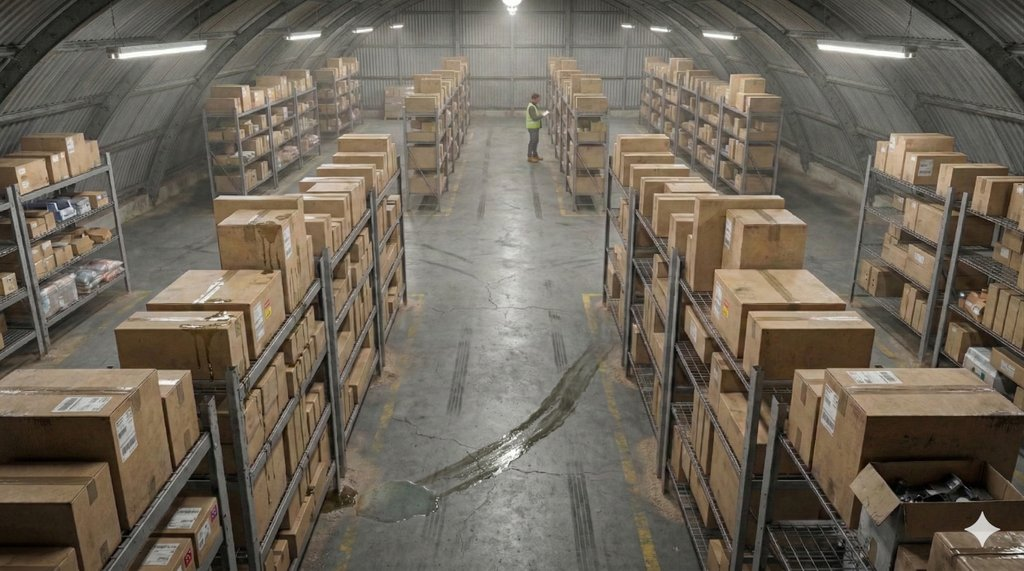person: (509, 77, 552, 170)
safety_vest: (525, 102, 544, 137)
spill: (332, 461, 483, 535)
